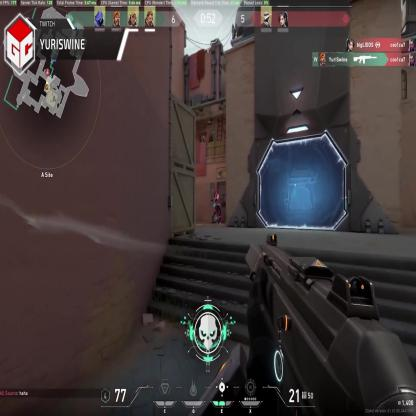enemy: (212, 191, 220, 222)
enemy_head: (215, 190, 218, 194)
